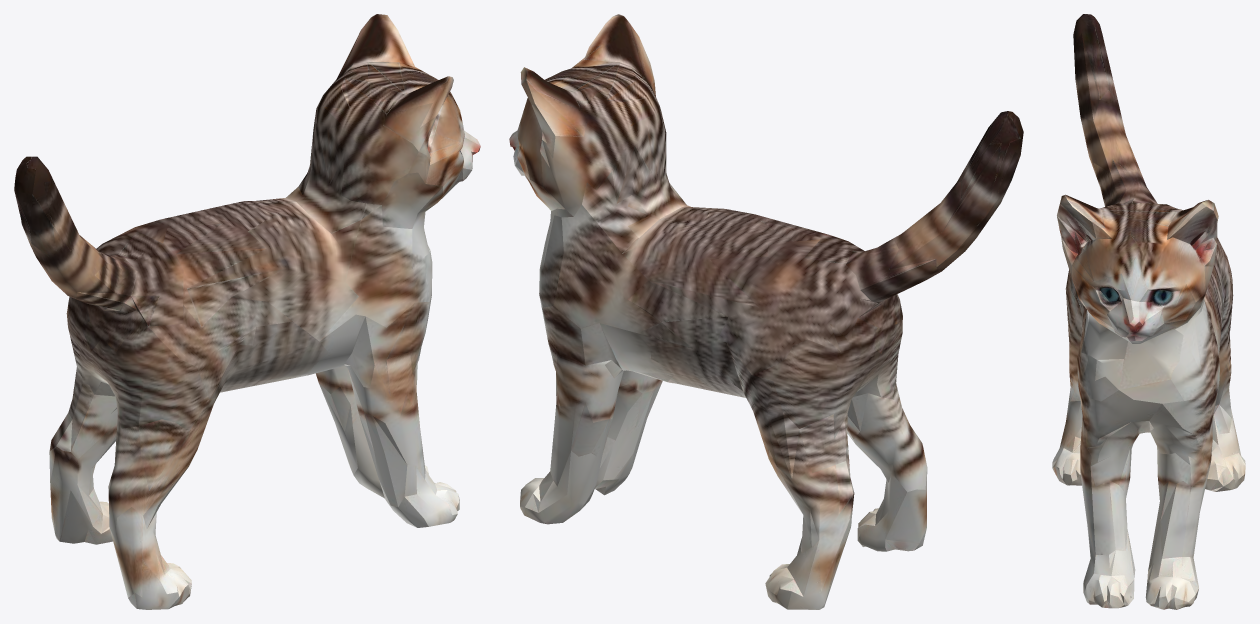
The model's file is COPYCC-lo.glb.
The picture shows the model from 3 angles, left to right: view 1: azimuth 30°, elevation 25°; view 2: azimuth 150°, elevation 25°; view 3: azimuth 270°, elevation 25°; orthographic projection. The views are drawn at different scales.
Parts seen in each view (by area): view 1: output_unwrapped; view 2: output_unwrapped; view 3: output_unwrapped.
Boxes of the visible parts, x1=… form: output_unwrapped: x1=14, y1=14, x2=480, y2=609; output_unwrapped: x1=509, y1=14, x2=1023, y2=609; output_unwrapped: x1=1052, y1=14, x2=1245, y2=609.
Bounding box in the file's own units: 1.09 × 1 × 0.4283.
1 material, 1 textured.
